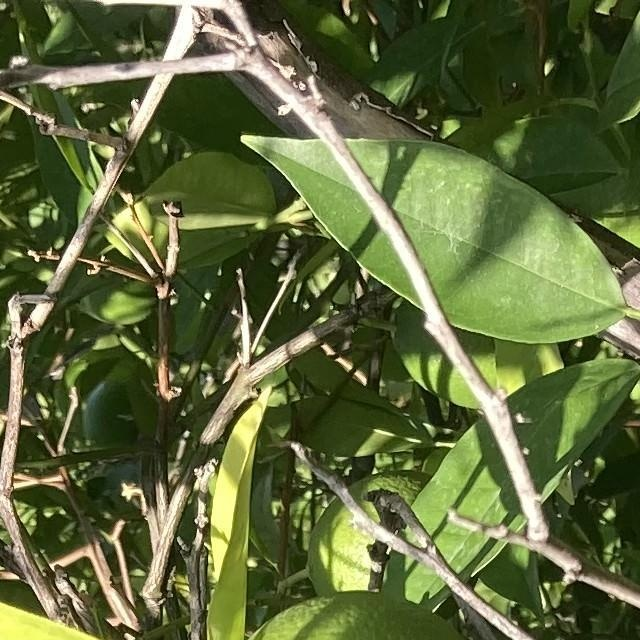orange: (195, 572, 503, 640)
